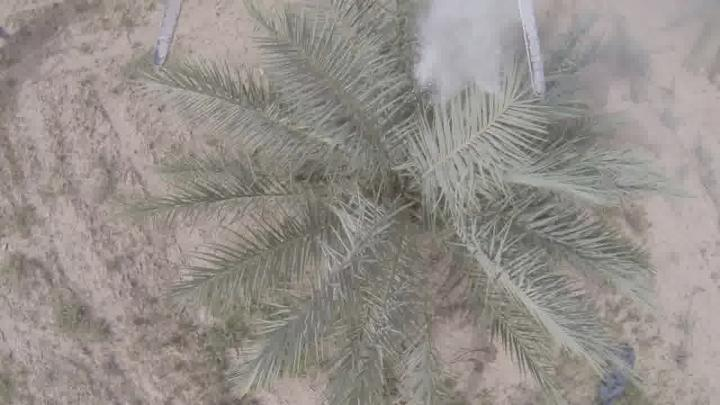Date-Palm-Crown: (258, 57, 560, 291)
